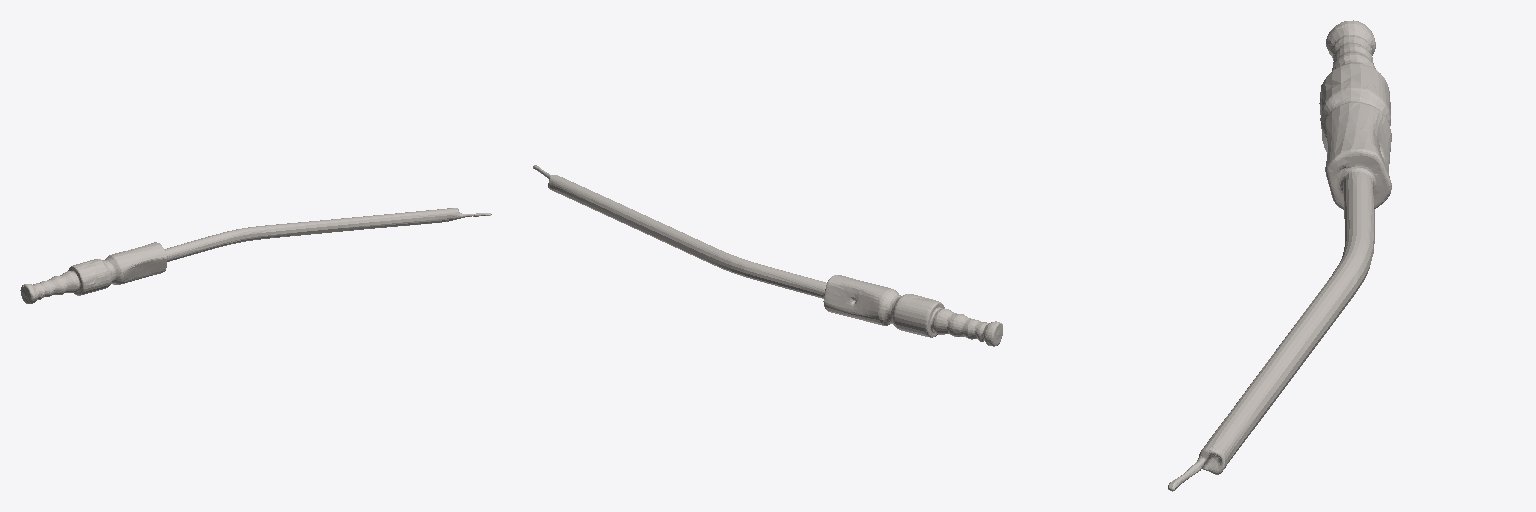
The robot description file, URDF, robot "Tooling_24":
<?xml version="1.0" encoding="utf-8"?>
<!-- This URDF was automatically created by SolidWorks to URDF Exporter! Originally created by Stephen Brawner (brawner@gmail.com)
     Commit Version: 1.6.0-4-g7f85cfe  Build Version: 1.6.7995.38578
     For more information, please see http://wiki.ros.org/sw_urdf_exporter -->
<robot
  name="Tooling_24">
  <link
    name="base_link">
    <inertial>
      <origin
        xyz="7.0219E-05 1.9761E-05 0.0031877"
        rpy="0 0 0" />
      <mass
        value="0.060317" />
      <inertia
        ixx="3.2232E-06"
        ixy="-2.3089E-06"
        ixz="-1.5313E-05"
        iyy="0.00013194"
        iyz="-2.4376E-07"
        izz="0.00012951" />
    </inertial>
    <visual>
      <origin
        xyz="0 0 0"
        rpy="0 0 0" />
      <geometry>
        <mesh
          filename="../meshes/base_link.STL" />
      </geometry>
      <material
        name="">
        <color
          rgba="0.77647 0.75686 0.73725 1" />
      </material>
    </visual>
    <collision>
      <origin
        xyz="0 0 0"
        rpy="0 0 0" />
      <geometry>
        <mesh
          filename="../meshes/base_link.STL" />
      </geometry>
    </collision>
  </link>
</robot>

--- What the picture shows (computed from the rendered views, not written in the file) ---
Views: 3 orthographic renders of the robot side by side, from view 1: azimuth 30°, elevation 25°; view 2: azimuth 150°, elevation 25°; view 3: azimuth 270°, elevation 25°.
Robot: Tooling_24 — 1 links, 0 joints (none); root link base_link; default pose: every joint at zero.
Links seen in each view (by area): view 1: base_link; view 2: base_link; view 3: base_link.
Boxes of the visible links, box(x1,y1,x2,y2) form: base_link: box(20, 208, 491, 303); base_link: box(533, 165, 1002, 346); base_link: box(1168, 20, 1391, 491).
Size in the robot's own frame: 0.1896 by 0.0387 by 0.0129 metres.
1 mesh visuals loaded from 1 distinct referenced files (1 binary STL).
